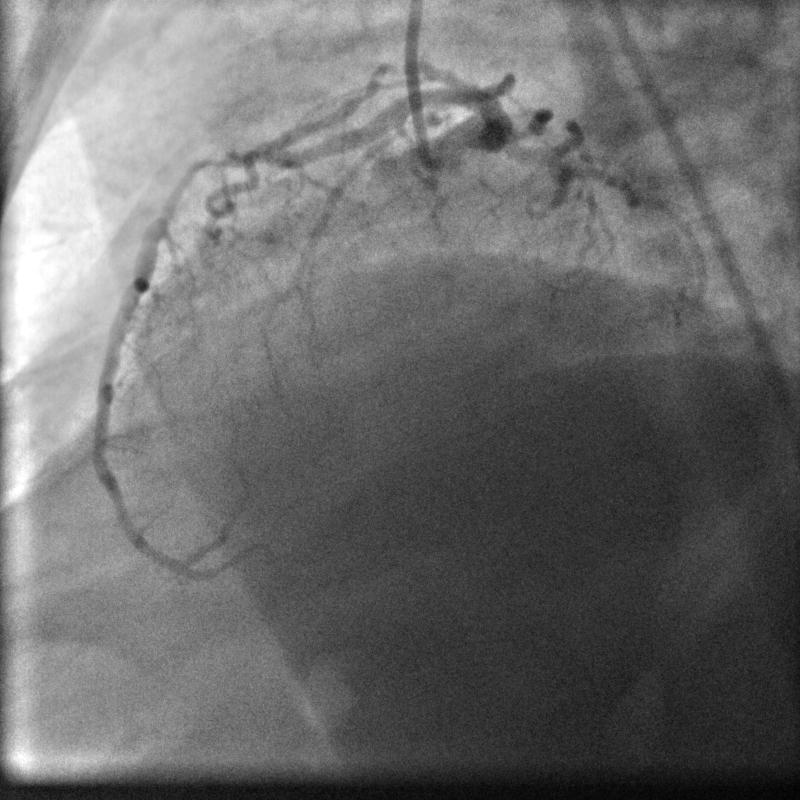Stenosis: (160, 155, 221, 217)
